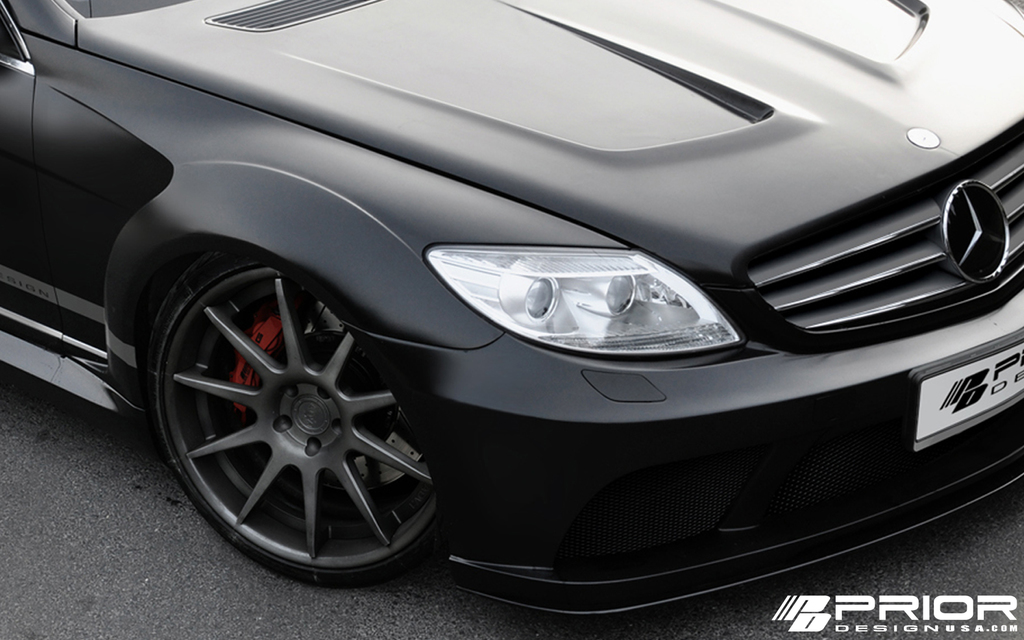Car: (66, 1, 981, 594)
